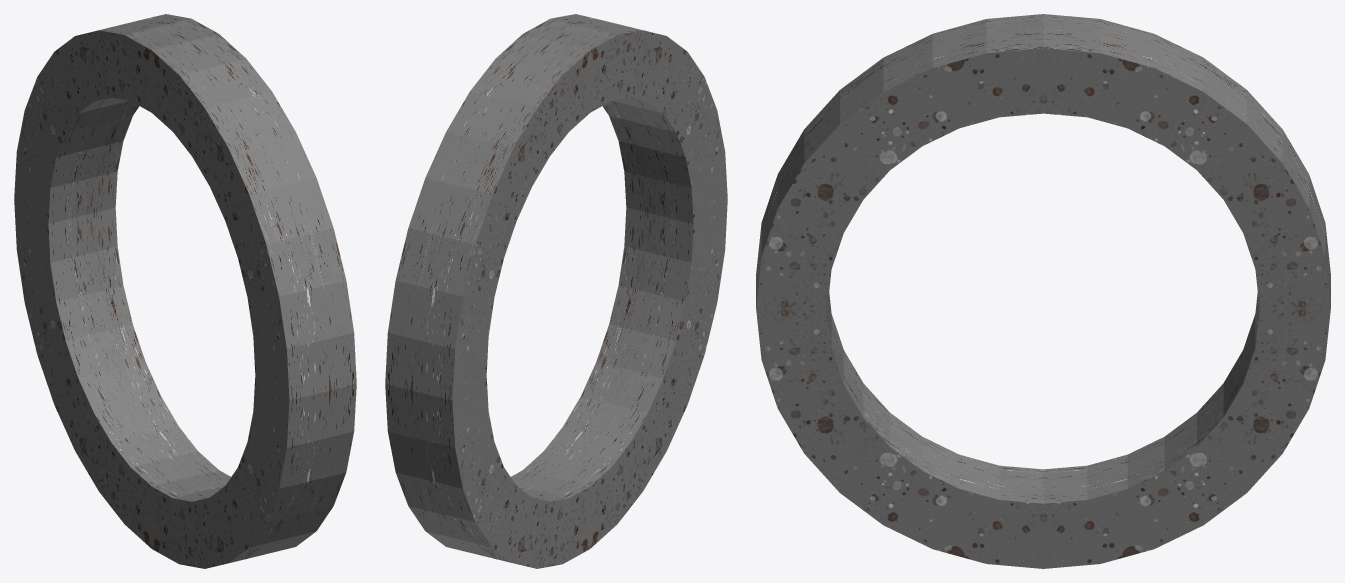
Rendered from BadgeButton.fbx.
3 renders of one model, left to right at view 1: azimuth 30°, elevation 25°; view 2: azimuth 150°, elevation 25°; view 3: azimuth 270°, elevation 25°, orthographic. The views are drawn at different scales.
Visible parts, largest first — view 1: Cylinder; view 2: Cylinder; view 3: Cylinder.
Boxes of the visible parts, x1,y1,x2,y2 form: Cylinder: [14, 14, 356, 568]; Cylinder: [385, 14, 727, 568]; Cylinder: [756, 14, 1330, 568].
Size of the model in its own units: 28.36 by 201 by 201.
